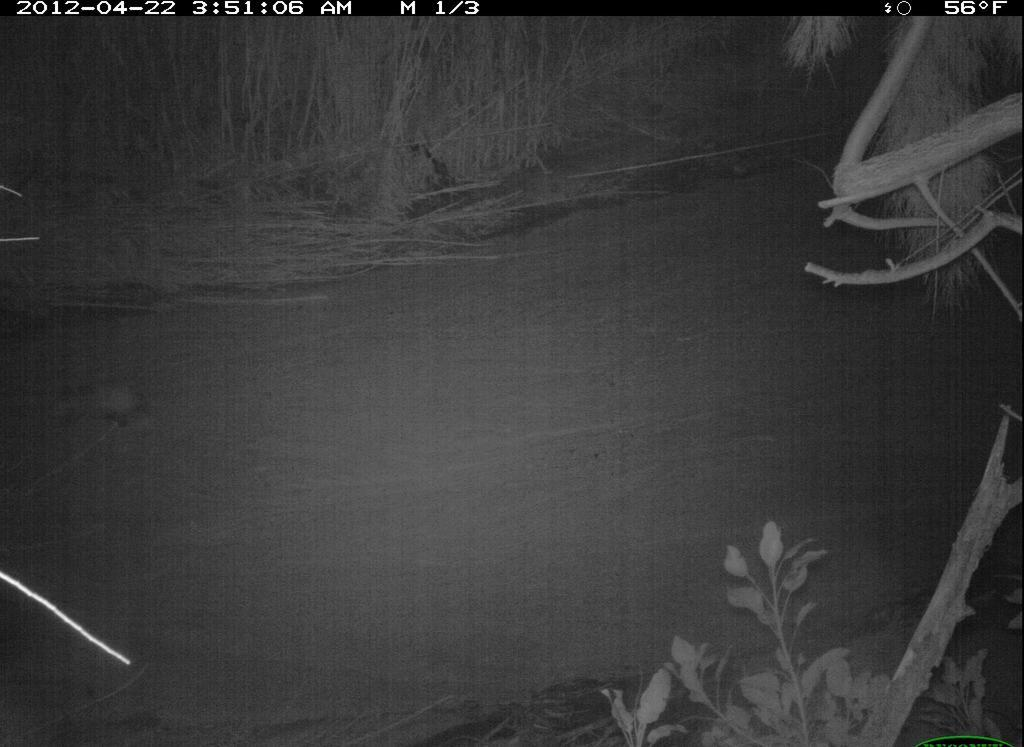opossum: (45, 374, 154, 436)
